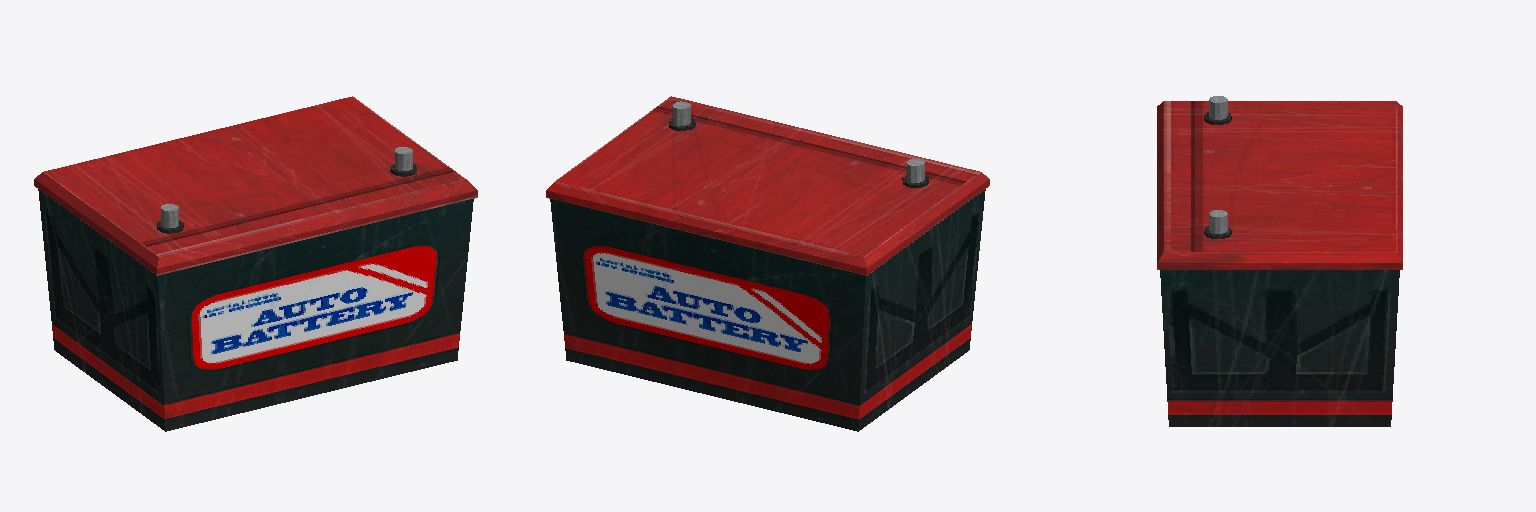
3 renders of one model, left to right at view 1: azimuth 30°, elevation 25°; view 2: azimuth 150°, elevation 25°; view 3: azimuth 270°, elevation 25°, orthographic.
Parts seen in each view (by area): view 1: Battery__DR2_; view 2: Battery__DR2_; view 3: Battery__DR2_.
Boxes of the visible parts, x1,y1,x2,y2 form: Battery__DR2_: [34, 96, 477, 431]; Battery__DR2_: [546, 96, 989, 431]; Battery__DR2_: [1157, 96, 1402, 426].
Size of the model in its own units: 21.82 by 12.95 by 14.47.
Materials: 1 (1 with a texture image).